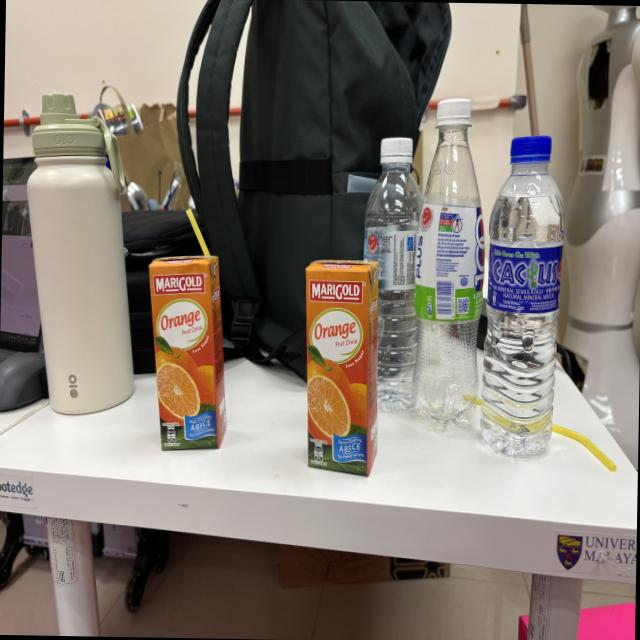drink_carton: (142, 202, 235, 456), (298, 251, 382, 481)
plastic_bottle: (406, 88, 492, 442), (477, 128, 567, 465), (356, 126, 431, 419)
